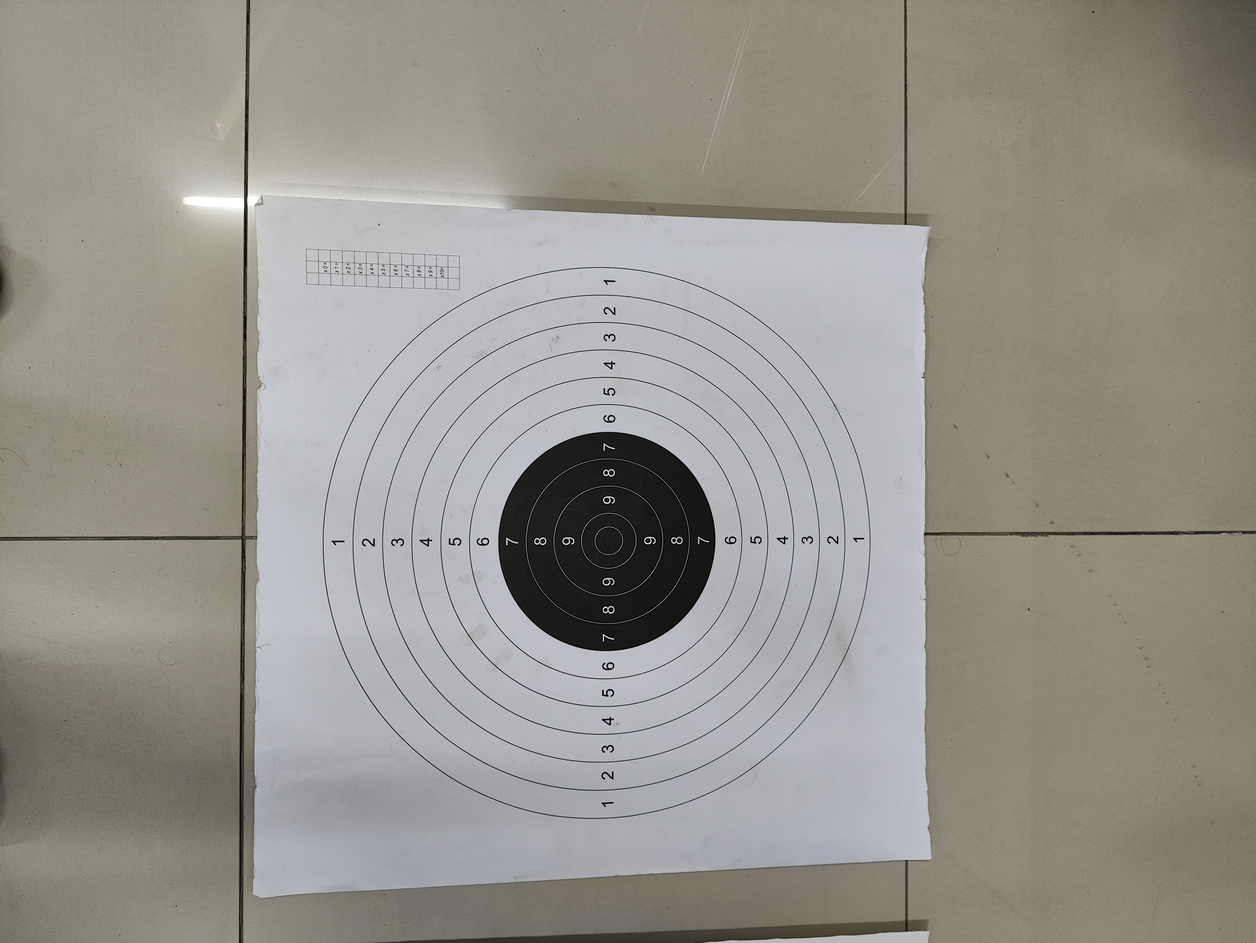target: (310, 244, 891, 845)
